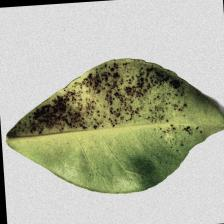canker: (51, 83, 176, 128)
